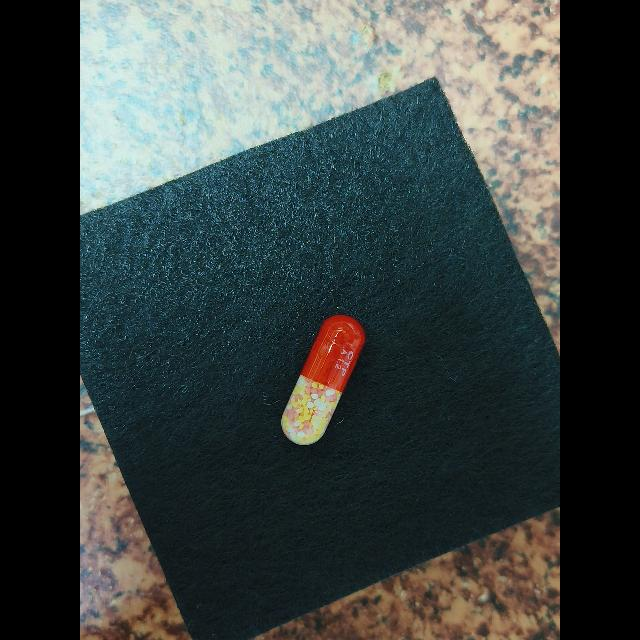Intact Capsule: (281, 314, 365, 445)
